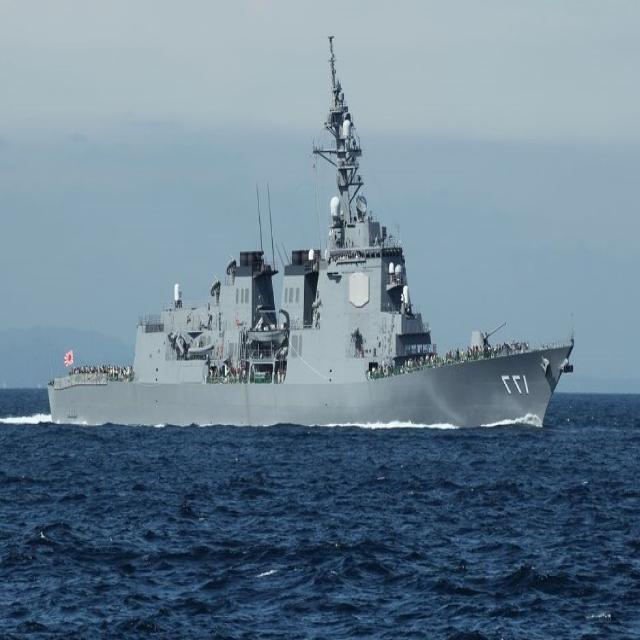navalvessels: (37, 44, 581, 450)
